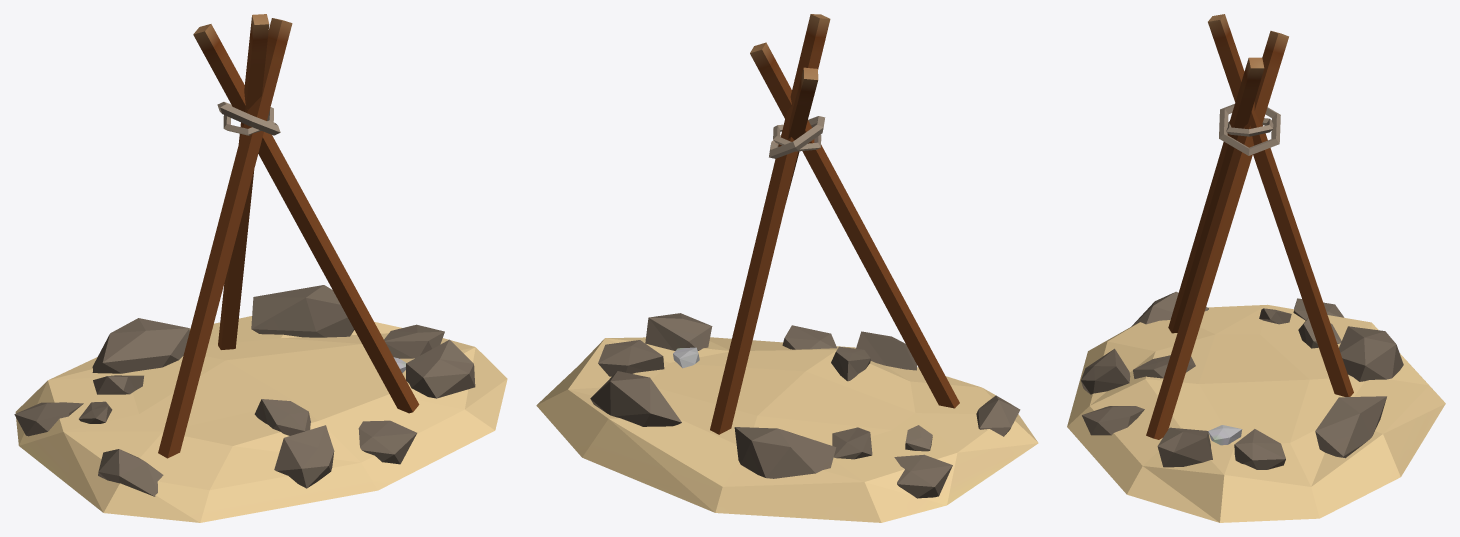
The model's file is kit-cooking-fire.glb.
3 renders of one model, left to right at view 1: azimuth 30°, elevation 25°; view 2: azimuth 150°, elevation 25°; view 3: azimuth 270°, elevation 25°, orthographic. The views are drawn at different scales.
Visible parts, largest first — view 1: Plane.010; view 2: Plane.010; view 3: Plane.010.
Boxes of the visible parts, x1=… form: Plane.010: x1=14, y1=14, x2=507, y2=522; Plane.010: x1=536, y1=14, x2=1038, y2=522; Plane.010: x1=1067, y1=14, x2=1445, y2=522.
Size of the model in its own units: 1.37 by 1.27 by 1.09.
1 material, 1 textured.
